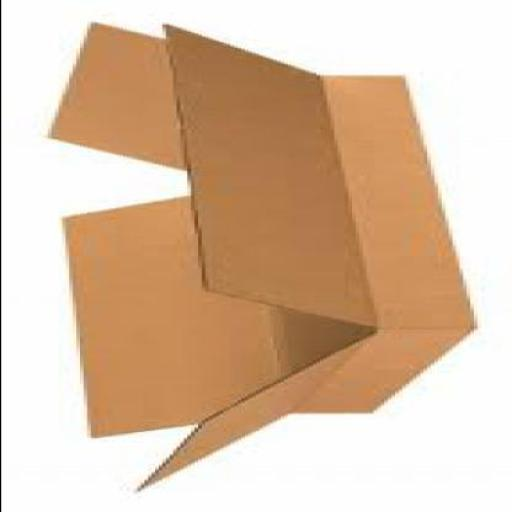cardboard: (43, 24, 473, 494)
